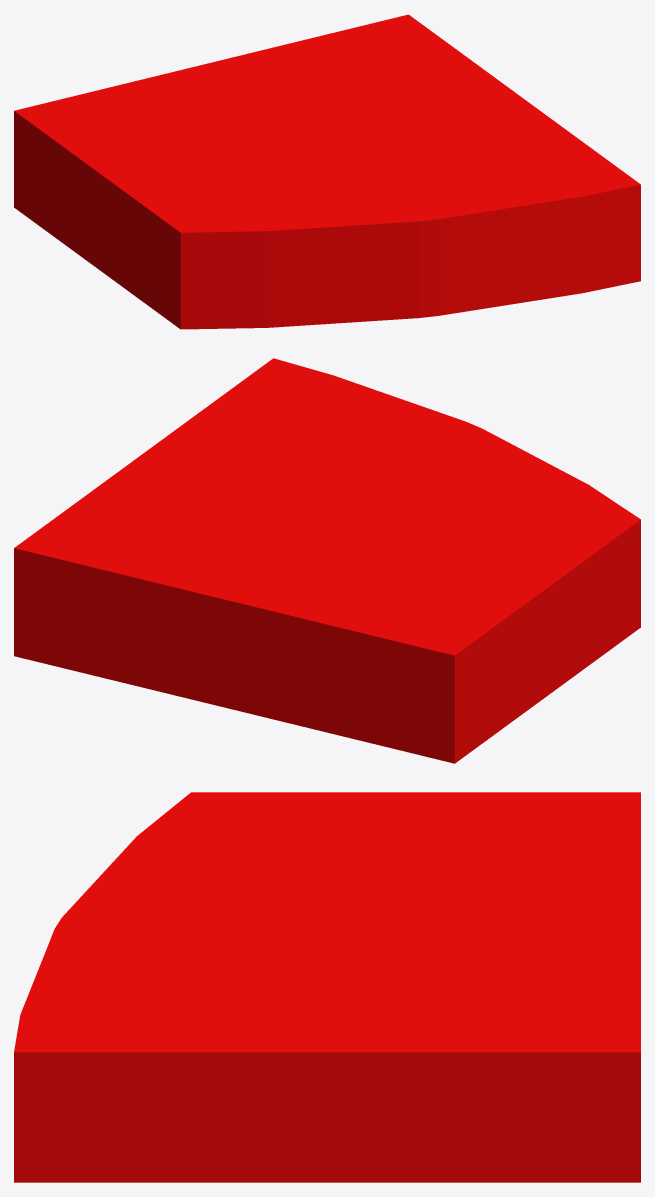
Rendered from pezzoTetris1.fbx.
3 views of the same model, one above another, from view 1: azimuth 30°, elevation 25°; view 2: azimuth 150°, elevation 25°; view 3: azimuth 270°, elevation 25° (orthographic). The views are drawn at different scales.
Parts seen in each view (by area): view 1: Cube.001; view 2: Cube.001; view 3: Cube.001.
Boxes of the visible parts, left/top/right/bottom form: Cube.001: left=14, top=14, right=640, bottom=329; Cube.001: left=14, top=358, right=640, bottom=763; Cube.001: left=14, top=792, right=640, bottom=1182.
Bounding box in the file's own units: 85.69 × 20.06 × 87.37.
